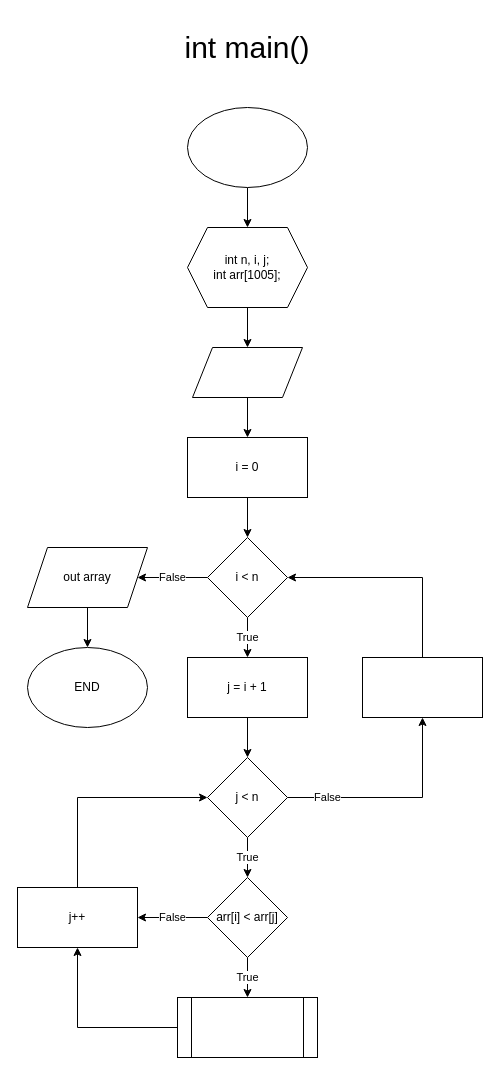
This 500x1075 diagram has some shape labels left out. The shapes that lost their labels are listed below. From the top down, each one's box as (x1, y1, x2, y2) in pixels, then its label:
(186, 106, 308, 188): Start
(192, 346, 302, 398): input n, arr[n]
(362, 656, 482, 718): i++
(176, 996, 318, 1058): tukar(arr[i], arr[j])
